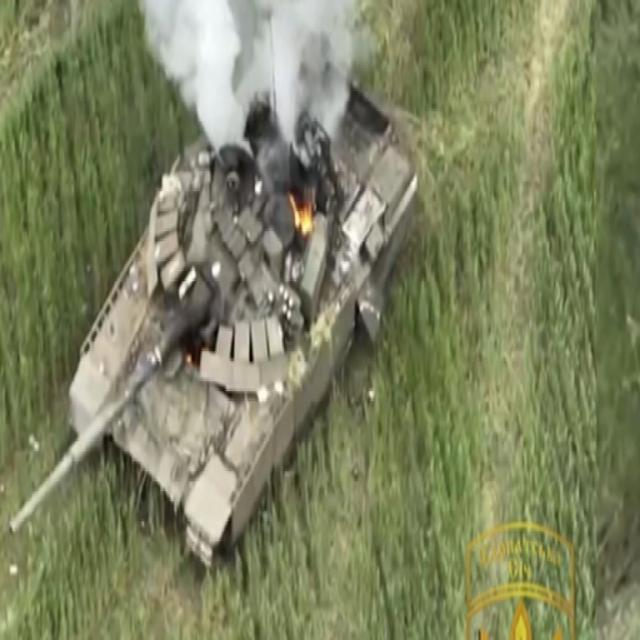TANK: (8, 31, 420, 585)
